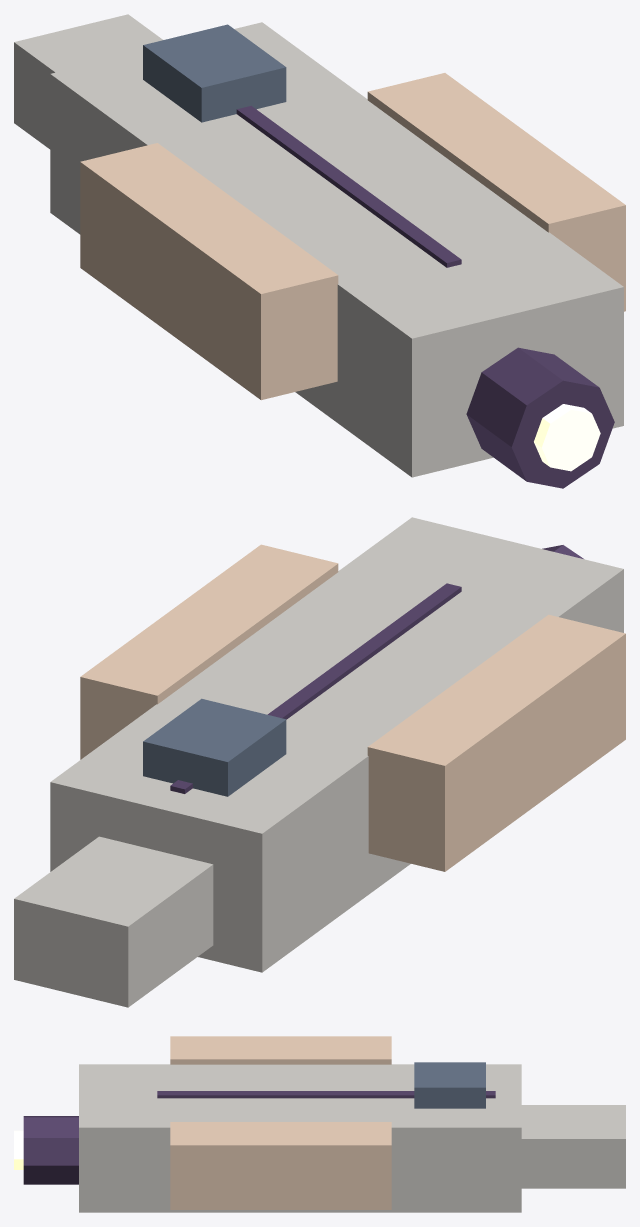
Rendered from hauler.glb.
The picture shows the model from 3 angles, top to bottom: view 1: azimuth 30°, elevation 25°; view 2: azimuth 150°, elevation 25°; view 3: azimuth 270°, elevation 25°; orthographic projection. The views are drawn at different scales.
Visible parts, largest first — view 1: Hauler; view 2: Hauler; view 3: Hauler.
Boxes of the visible parts, left/top/right/bottom form: Hauler: left=14, top=14, right=625, bottom=488; Hauler: left=14, top=517, right=625, bottom=1007; Hauler: left=14, top=1036, right=625, bottom=1212.
Bounding box in the file's own units: 1.98 × 0.92 × 4.7.
